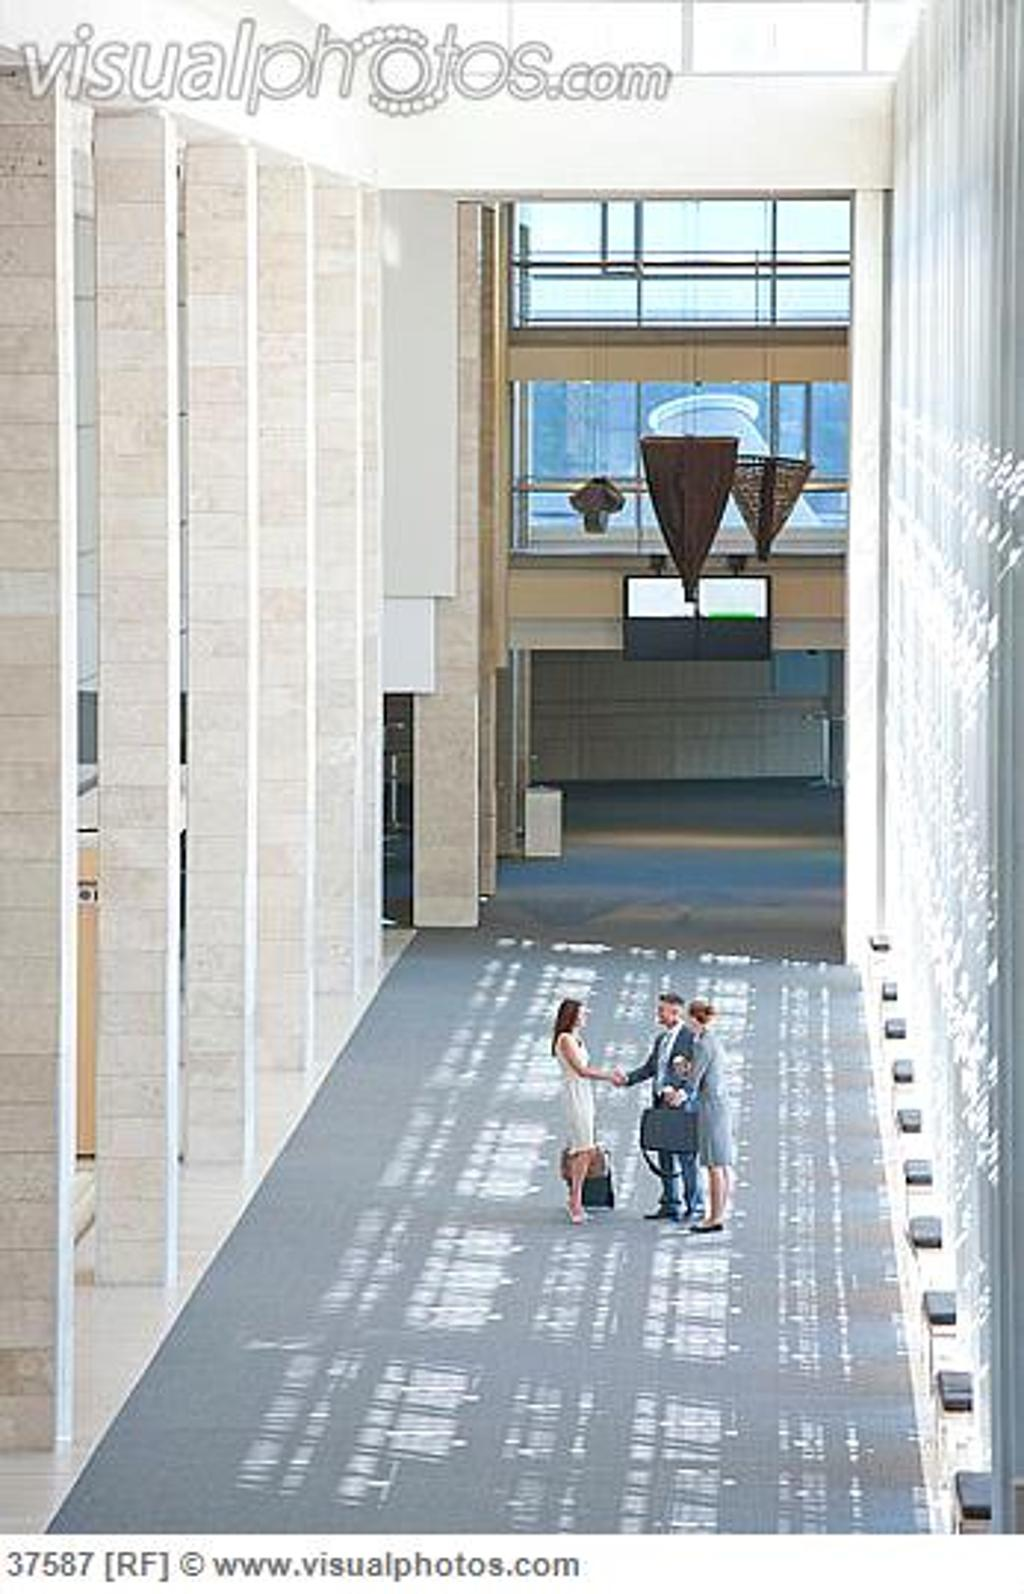face: (657, 1002, 673, 1025), (573, 1006, 586, 1026), (685, 1009, 697, 1026)
